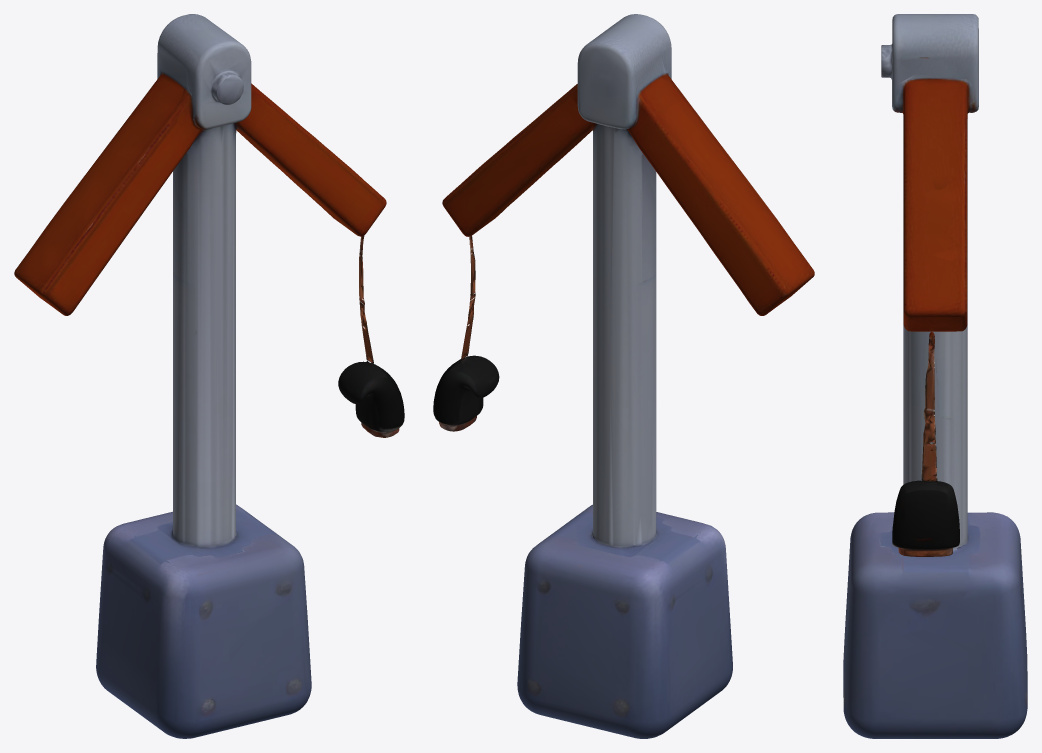
File: obstacle_swinghammer.glb
3 views of the same model, side by side, from view 1: azimuth 30°, elevation 25°; view 2: azimuth 150°, elevation 25°; view 3: azimuth 270°, elevation 25° (orthographic). The views are drawn at different scales.
Parts seen in each view (by area): view 1: model; view 2: model; view 3: model.
Part boxes in pixels (box(x1,y1,x2,y2)): model: box(14, 14, 404, 738); model: box(433, 14, 814, 738); model: box(843, 14, 1027, 738).
Size of the model in its own units: 1.08 by 1.9 by 0.4573.
Materials: 1 (1 with a texture image).
